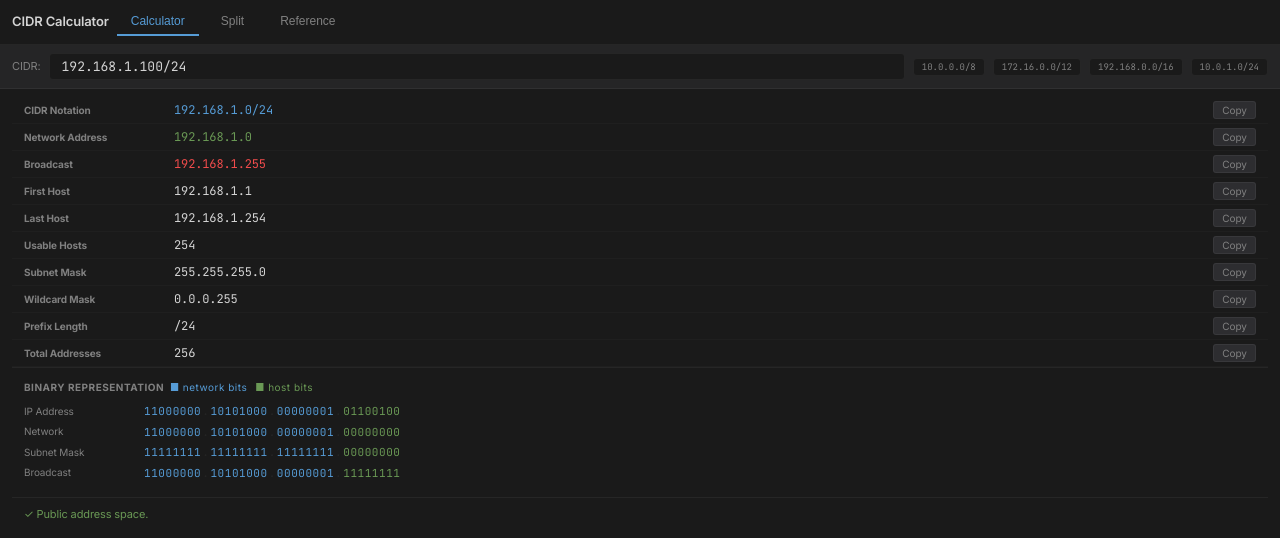
it: CidrPanel — split and reference workflows › Given a /24, when split is selected, then it lists four /26 networks
The width and height of the screenshot is (1280, 538).
Click the button "Split": (232, 22) [207,8,258,36]
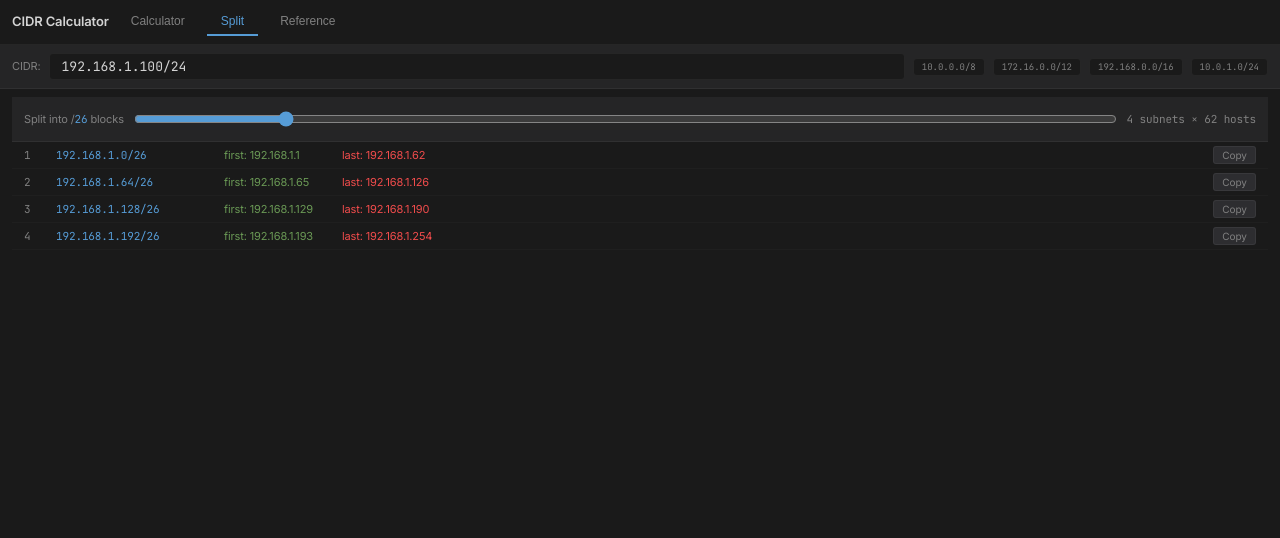
Expected: the text "4 subnets × 62 hosts" is shown, [1127,111,1256,127]
Expected: the text "192.168.1.0/26" is shown, [56,148,147,162]
Expected: the text "192.168.1.64/26" is shown, [56,175,153,189]
